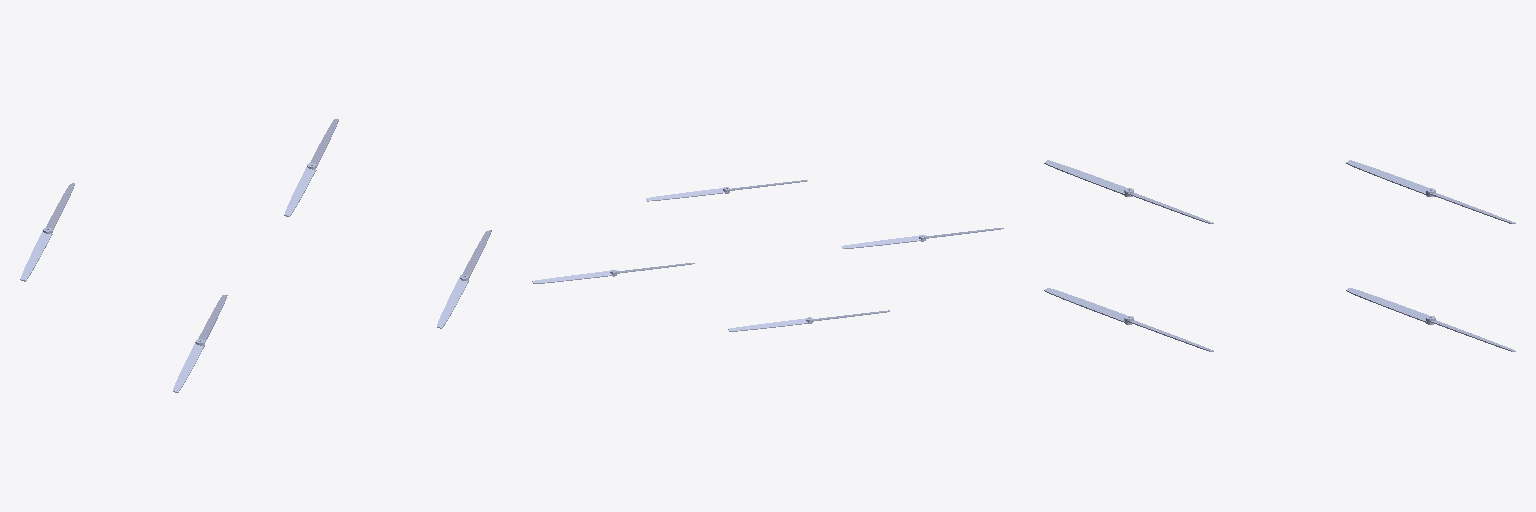
The robot description file, URDF, robot "quadtilt_new":
<?xml version="1.0" encoding="utf-8"?>
<!-- This URDF was automatically created by SolidWorks to URDF Exporter! Originally created by Stephen Brawner (brawner@gmail.com) 
     Commit Version: 1.6.0-4-g7f85cfe  Build Version: 1.6.7995.38578
     For more information, please see http://wiki.ros.org/sw_urdf_exporter -->
<robot
  name="quadtilt_new">
  <link
    name="base_link">
    <inertial>
      <origin
        xyz="0.039397 -0.00064688 0.024368"
        rpy="0 0 0" />
      <mass
        value="2.3411" />
      <inertia
        ixx="0.0013622"
        ixy="1.2109E-05"
        ixz="2.1278E-05"
        iyy="0.011253"
        iyz="1.003E-06"
        izz="0.011215" />
    </inertial>
    <visual>
      <origin
        xyz="0 0 0"
        rpy="0 0 0" />
      <geometry>
        <mesh
          filename="package://quadtilt_new/meshes/base_link.STL" />
      </geometry>
      <material
        name="">
        <color
          rgba="0.89804 0.91765 0.92941 1" />
      </material>
    </visual>
    <collision>
      <origin
        xyz="0 0 0"
        rpy="0 0 0" />
      <geometry>
        <mesh
          filename="package://quadtilt_new/meshes/base_link.STL" />
      </geometry>
    </collision>
  </link>
  <link
    name="tilt_0_Link">
    <inertial>
      <origin
        xyz="0.028311 -5.7652E-09 -5.0273E-08"
        rpy="0 0 0" />
      <mass
        value="0.94736" />
      <inertia
        ixx="0.0033591"
        ixy="-3.2015E-12"
        ixz="5.825E-11"
        iyy="0.0032937"
        iyz="6.3798E-10"
        izz="0.0001883" />
    </inertial>
    <visual>
      <origin
        xyz="0 0 0"
        rpy="0 0 0" />
      <geometry>
        <mesh
          filename="package://quadtilt_new/meshes/tilt_0_Link.STL" />
      </geometry>
      <material
        name="">
        <color
          rgba="1 1 1 1" />
      </material>
    </visual>
    <collision>
      <origin
        xyz="0 0 0"
        rpy="0 0 0" />
      <geometry>
        <mesh
          filename="package://quadtilt_new/meshes/tilt_0_Link.STL" />
      </geometry>
    </collision>
  </link>
  <joint
    name="tilt_0_joint"
    type="revolute">
    <origin
      xyz="0.255 0 0"
      rpy="-1.5708 -1.5513 3.1416" />
    <parent
      link="base_link" />
    <child
      link="tilt_0_Link" />
    <axis
      xyz="0 0 1" />
    <limit
      lower="0"
      upper="0"
      effort="0"
      velocity="0" />
  </joint>
  <link
    name="properller_0_Link">
    <inertial>
      <origin
        xyz="3.0329E-07 3.2869E-07 0.005"
        rpy="0 0 0" />
      <mass
        value="0.012354" />
      <inertia
        ixx="6.403E-05"
        ixy="-5.868E-05"
        ixz="6.4876E-14"
        iyy="5.4243E-05"
        iyz="7.1522E-14"
        izz="0.00011821" />
    </inertial>
    <visual>
      <origin
        xyz="0 0 0"
        rpy="0 0 0" />
      <geometry>
        <mesh
          filename="package://quadtilt_new/meshes/properller_0_Link.STL" />
      </geometry>
      <material
        name="">
        <color
          rgba="0.79216 0.81961 0.93333 1" />
      </material>
    </visual>
    <collision>
      <origin
        xyz="0 0 0"
        rpy="0 0 0" />
      <geometry>
        <mesh
          filename="package://quadtilt_new/meshes/properller_0_Link.STL" />
      </geometry>
    </collision>
  </link>
  <joint
    name="properller_0_joint"
    type="continuous">
    <origin
      xyz="0.05075 0 0.255"
      rpy="-1.5708 0 -1.5708" />
    <parent
      link="tilt_0_Link" />
    <child
      link="properller_0_Link" />
    <axis
      xyz="0 0 1" />
  </joint>
  <link
    name="properller_2_Link">
    <inertial>
      <origin
        xyz="-3.034E-07 -3.2861E-07 0.005"
        rpy="0 0 0" />
      <mass
        value="0.012354" />
      <inertia
        ixx="6.403E-05"
        ixy="-5.868E-05"
        ixz="6.4876E-14"
        iyy="5.4243E-05"
        iyz="7.1522E-14"
        izz="0.00011821" />
    </inertial>
    <visual>
      <origin
        xyz="0 0 0"
        rpy="0 0 0" />
      <geometry>
        <mesh
          filename="package://quadtilt_new/meshes/properller_2_Link.STL" />
      </geometry>
      <material
        name="">
        <color
          rgba="0.79216 0.81961 0.93333 1" />
      </material>
    </visual>
    <collision>
      <origin
        xyz="0 0 0"
        rpy="0 0 0" />
      <geometry>
        <mesh
          filename="package://quadtilt_new/meshes/properller_2_Link.STL" />
      </geometry>
    </collision>
  </link>
  <joint
    name="properller_2_joint"
    type="continuous">
    <origin
      xyz="0.05075 0 -0.255"
      rpy="-1.5708 0 -1.5708" />
    <parent
      link="tilt_0_Link" />
    <child
      link="properller_2_Link" />
    <axis
      xyz="0 0 1" />
  </joint>
  <link
    name="tilt_1_Link">
    <inertial>
      <origin
        xyz="0.039397 -0.00064688 0.024368"
        rpy="0 0 0" />
      <mass
        value="2.3411" />
      <inertia
        ixx="0.0013622"
        ixy="1.2109E-05"
        ixz="2.1278E-05"
        iyy="0.011253"
        iyz="1.003E-06"
        izz="0.011215" />
    </inertial>
    <visual>
      <origin
        xyz="0 0 0"
        rpy="0 0 0" />
      <geometry>
        <mesh
          filename="package://quadtilt_new/meshes/tilt_1_Link.STL" />
      </geometry>
      <material
        name="">
        <color
          rgba="0.89804 0.91765 0.92941 1" />
      </material>
    </visual>
    <collision>
      <origin
        xyz="0 0 0"
        rpy="0 0 0" />
      <geometry>
        <mesh
          filename="package://quadtilt_new/meshes/tilt_1_Link.STL" />
      </geometry>
    </collision>
  </link>
  <joint
    name="tilt_1_joint"
    type="revolute">
    <origin
      xyz="-0.255 0 0"
      rpy="-1.5708 -1.5513 3.1416" />
    <parent
      link="base_link" />
    <child
      link="tilt_1_Link" />
    <axis
      xyz="0 0 1" />
    <limit
      lower="0"
      upper="0"
      effort="0"
      velocity="0" />
  </joint>
  <link
    name="properller_1_Link">
    <inertial>
      <origin
        xyz="-3.034E-07 -3.2861E-07 0.005"
        rpy="0 0 0" />
      <mass
        value="0.012354" />
      <inertia
        ixx="6.403E-05"
        ixy="-5.868E-05"
        ixz="6.4876E-14"
        iyy="5.4243E-05"
        iyz="7.1522E-14"
        izz="0.00011821" />
    </inertial>
    <visual>
      <origin
        xyz="0 0 0"
        rpy="0 0 0" />
      <geometry>
        <mesh
          filename="package://quadtilt_new/meshes/properller_1_Link.STL" />
      </geometry>
      <material
        name="">
        <color
          rgba="0.79216 0.81961 0.93333 1" />
      </material>
    </visual>
    <collision>
      <origin
        xyz="0 0 0"
        rpy="0 0 0" />
      <geometry>
        <mesh
          filename="package://quadtilt_new/meshes/properller_1_Link.STL" />
      </geometry>
    </collision>
  </link>
  <joint
    name="properller_1_joint"
    type="continuous">
    <origin
      xyz="0.05075 0 -0.255"
      rpy="-1.5708 0 -1.5708" />
    <parent
      link="tilt_1_Link" />
    <child
      link="properller_1_Link" />
    <axis
      xyz="0 0 1" />
  </joint>
  <link
    name="properller_3_Link">
    <inertial>
      <origin
        xyz="3.0329E-07 3.2869E-07 0.005"
        rpy="0 0 0" />
      <mass
        value="0.012354" />
      <inertia
        ixx="6.403E-05"
        ixy="-5.868E-05"
        ixz="6.4876E-14"
        iyy="5.4243E-05"
        iyz="7.1522E-14"
        izz="0.00011821" />
    </inertial>
    <visual>
      <origin
        xyz="0 0 0"
        rpy="0 0 0" />
      <geometry>
        <mesh
          filename="package://quadtilt_new/meshes/properller_3_Link.STL" />
      </geometry>
      <material
        name="">
        <color
          rgba="0.79216 0.81961 0.93333 1" />
      </material>
    </visual>
    <collision>
      <origin
        xyz="0 0 0"
        rpy="0 0 0" />
      <geometry>
        <mesh
          filename="package://quadtilt_new/meshes/properller_3_Link.STL" />
      </geometry>
    </collision>
  </link>
  <joint
    name="properller_3_joint"
    type="continuous">
    <origin
      xyz="0.05075 0 0.255"
      rpy="-1.5708 0 -1.5708" />
    <parent
      link="tilt_1_Link" />
    <child
      link="properller_3_Link" />
    <axis
      xyz="0 0 1" />
  </joint>
</robot>

--- Facts derived from the render (not from the file) ---
Views: 3 orthographic renders of the robot side by side, from view 1: azimuth 30°, elevation 25°; view 2: azimuth 150°, elevation 25°; view 3: azimuth 270°, elevation 25°.
Robot: quadtilt_new — 7 links, 6 joints (2 revolute, 4 continuous); root link base_link; default pose: every joint at zero.
Links seen in each view (by area): view 1: properller_0_Link, properller_1_Link, properller_2_Link, properller_3_Link; view 2: properller_3_Link, properller_0_Link, properller_2_Link, properller_1_Link; view 3: properller_2_Link, properller_3_Link, properller_0_Link, properller_1_Link.
Boxes of the visible links, left/top/right/bottom form: properller_0_Link: left=437, top=230, right=491, bottom=328; properller_1_Link: left=20, top=183, right=74, bottom=281; properller_2_Link: left=284, top=119, right=338, bottom=216; properller_3_Link: left=173, top=295, right=227, bottom=392; properller_3_Link: left=841, top=228, right=1003, bottom=248; properller_0_Link: left=646, top=180, right=807, bottom=201; properller_2_Link: left=532, top=263, right=694, bottom=283; properller_1_Link: left=728, top=310, right=889, bottom=331; properller_2_Link: left=1346, top=288, right=1515, bottom=351; properller_3_Link: left=1044, top=160, right=1213, bottom=223; properller_0_Link: left=1044, top=288, right=1213, bottom=351; properller_1_Link: left=1346, top=160, right=1515, bottom=223.
Size in the robot's own frame: 0.7739 by 0.7958 by 0.0103 metres.
Meshes: 7 distinct files referenced, 4 mesh visuals loaded (4 binary STL); not drawn: 3 (reference not matched to a file when rendering).
